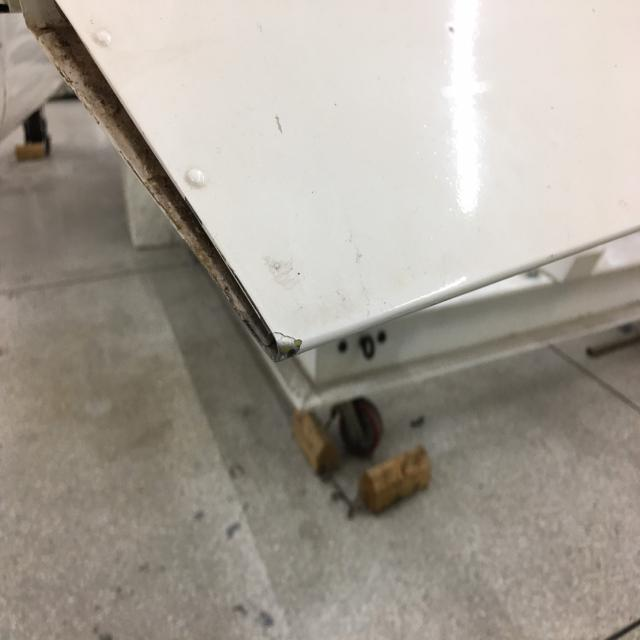Rupture: (253, 312, 308, 366)
